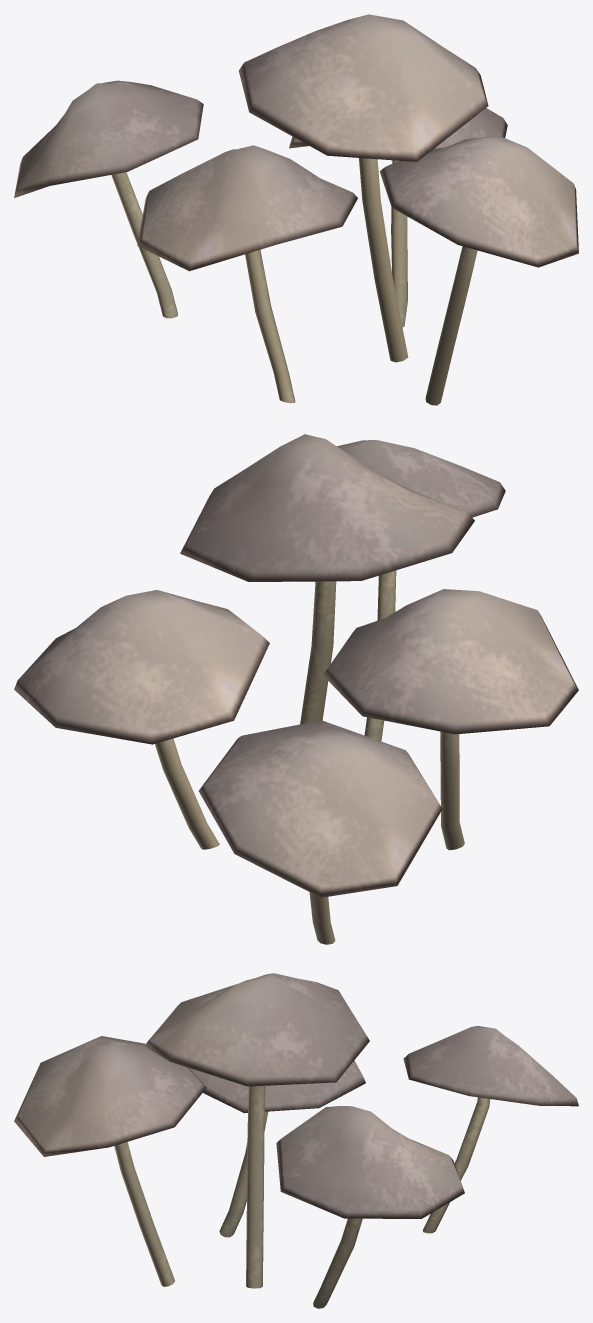
The model's file is Mushroom_Common.gltf.
The picture shows the model from 3 angles, top to bottom: view 1: azimuth 30°, elevation 25°; view 2: azimuth 150°, elevation 25°; view 3: azimuth 270°, elevation 25°; orthographic projection. The views are drawn at different scales.
Visible parts, largest first — view 1: Mushroom_Common; view 2: Mushroom_Common; view 3: Mushroom_Common.
Part boxes in pixels (x1=…): Mushroom_Common: x1=14, y1=14, x2=578, y2=405; Mushroom_Common: x1=14, y1=434, x2=578, y2=944; Mushroom_Common: x1=14, y1=973, x2=578, y2=1308.
Bounding box in the file's own units: 0.5637 × 0.4635 × 0.7791.
1 material, 1 textured.
